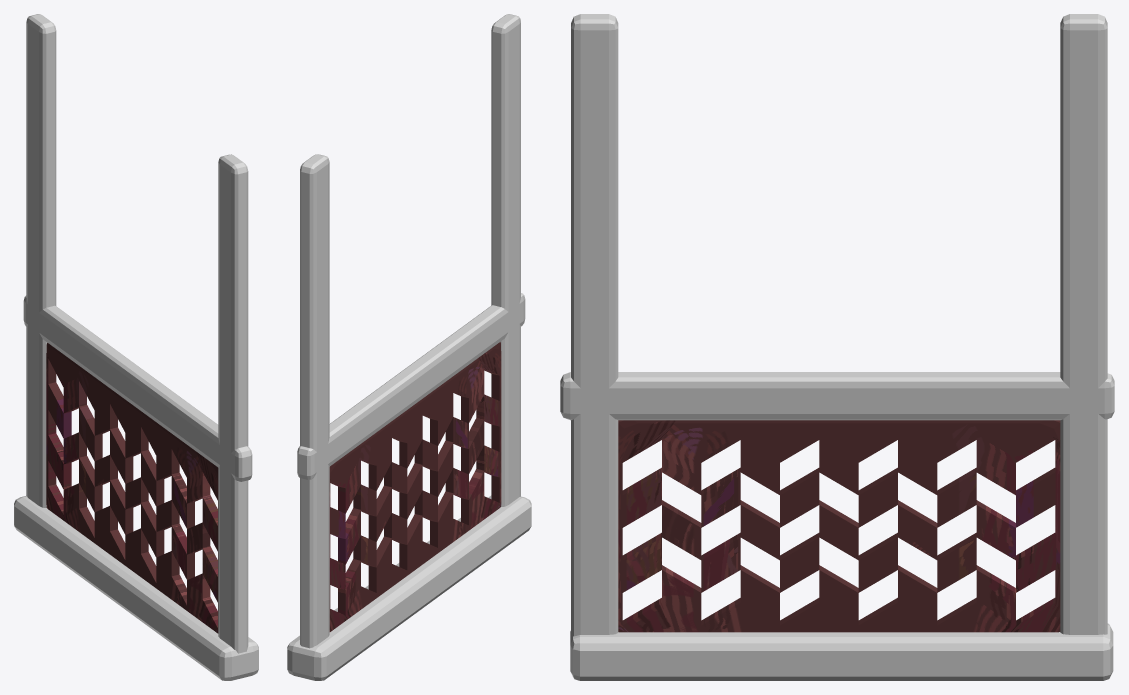
The model's file is Stamp.fbx.
The picture shows the model from 3 angles, left to right: view 1: azimuth 30°, elevation 25°; view 2: azimuth 150°, elevation 25°; view 3: azimuth 270°, elevation 25°; orthographic projection. The views are drawn at different scales.
Parts seen in each view (by area): view 1: 平面.003, 立方体.008, 立方体.007, 立方体, 立方体.009; view 2: 平面.003, 立方体.007, 立方体.008, 立方体, 立方体.009; view 3: 平面.003, 立方体.008, 立方体.007, 立方体, 立方体.009.
Boxes of the visible parts, x1,y1,x2,y2 form: 平面.003: [46, 343, 218, 633]; 立方体.008: [218, 154, 248, 653]; 立方体.007: [26, 14, 56, 507]; 立方体: [14, 496, 258, 680]; 立方体.009: [23, 295, 252, 481]; 平面.003: [329, 342, 501, 631]; 立方体.007: [300, 154, 329, 648]; 立方体.008: [491, 14, 520, 506]; 立方体: [287, 495, 531, 680]; 立方体.009: [297, 293, 525, 479]; 平面.003: [618, 420, 1060, 632]; 立方体.008: [571, 14, 618, 638]; 立方体.007: [1060, 14, 1107, 634]; 立方体: [570, 623, 1113, 680]; 立方体.009: [560, 372, 1114, 420].
Size of the model in its own units: 70.34 by 878 by 672.
2 materials, 1 textured.
